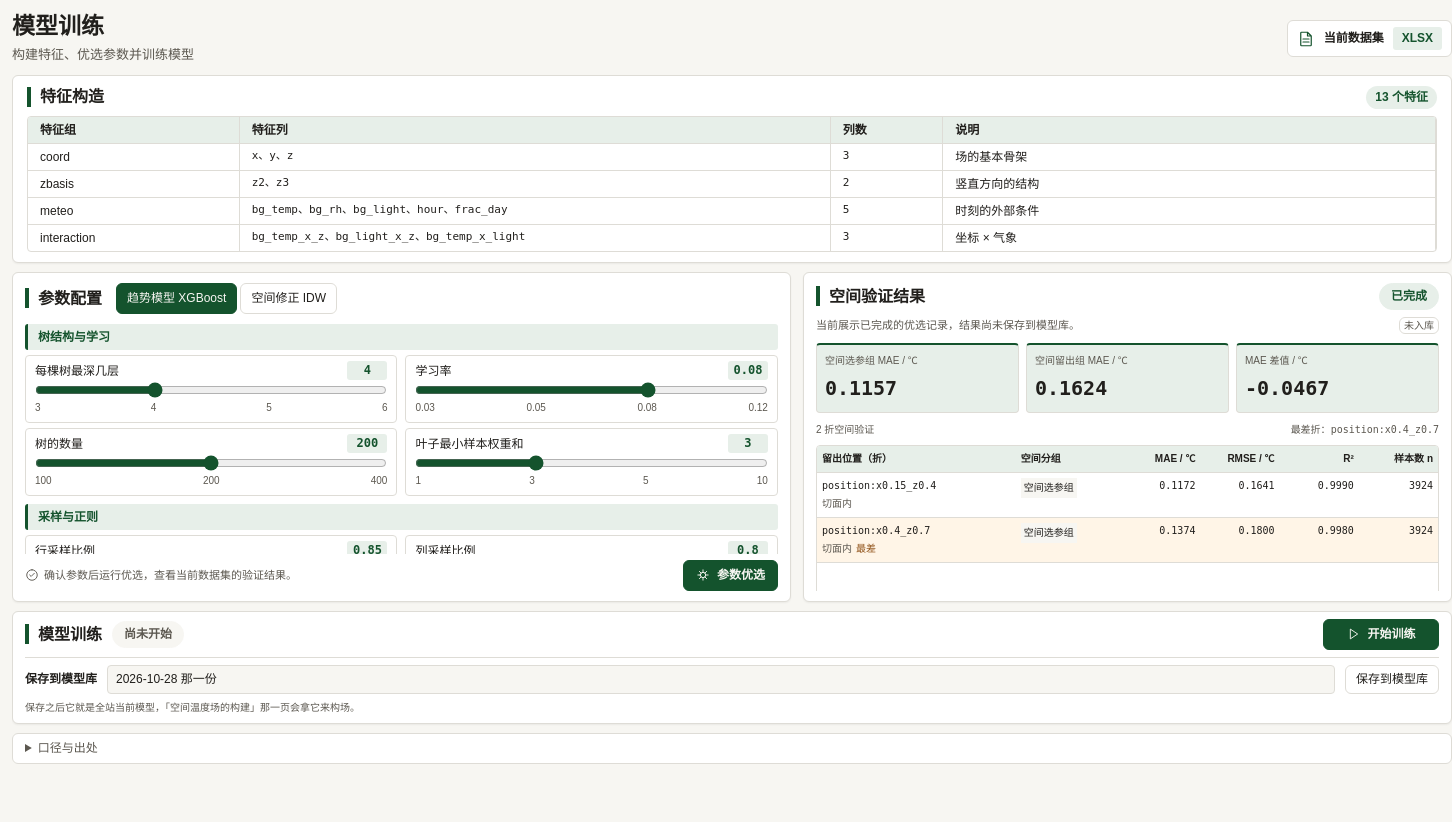
Test case: 保存到模型库 › 保存成功之后图章翻成「包」，那一行也收了
Replace the text in the field named "model-name" with "棚里那套" at [721, 680], box [107,665,1335,694]
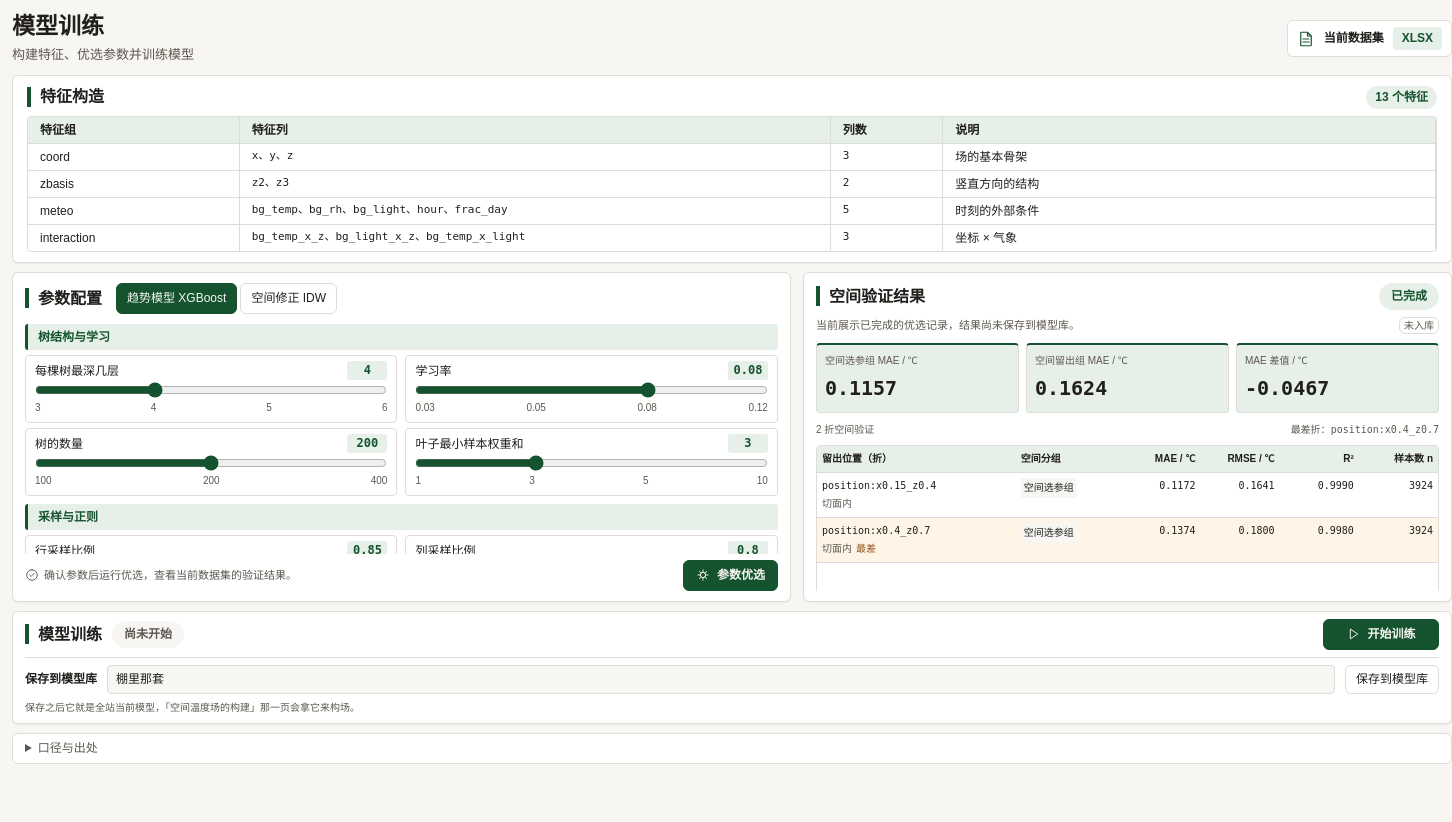
Click the button "保存到模型库" at [1392, 680], box [1345,665,1439,694]
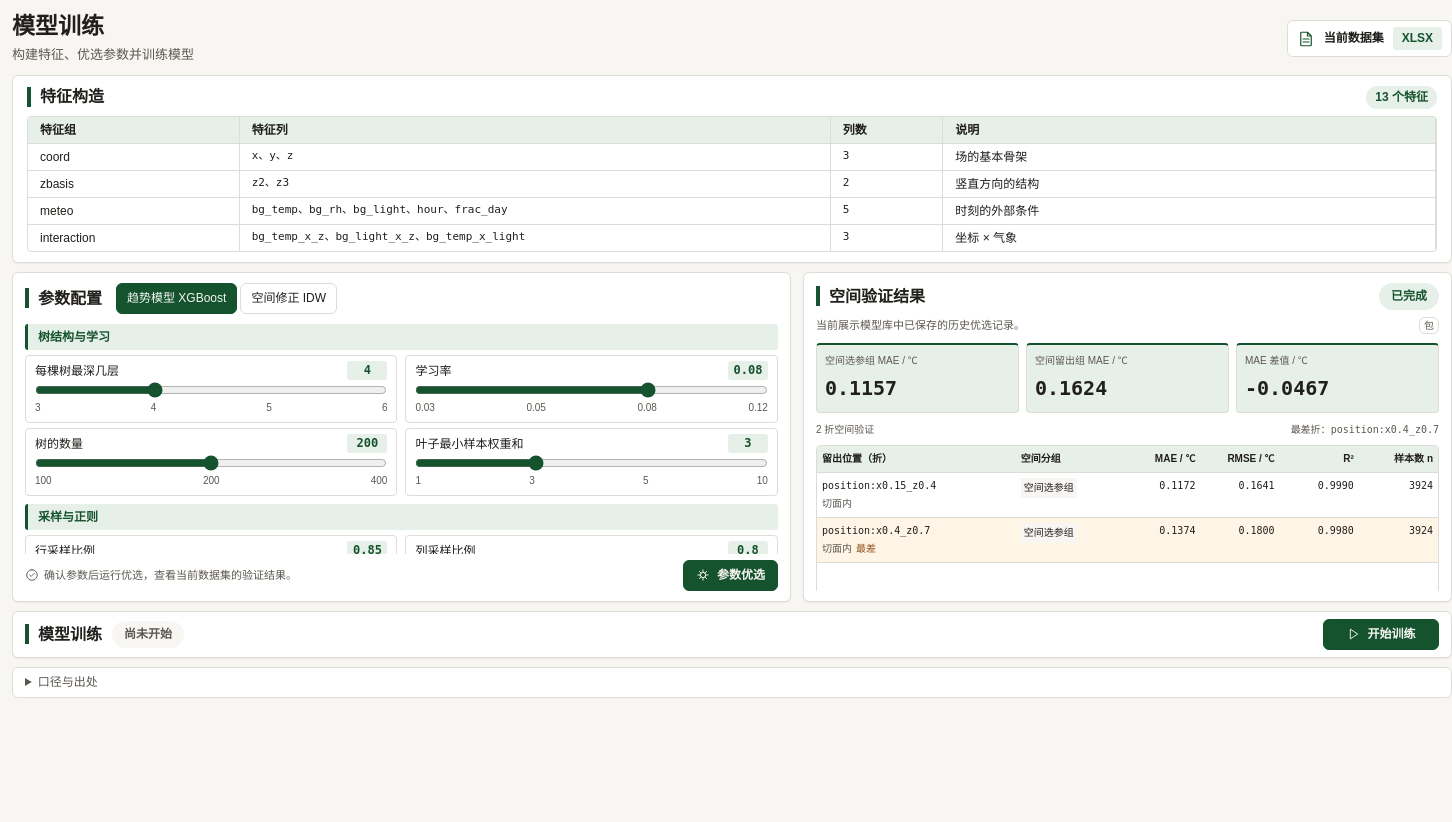
expect the text "包" is shown: met, box [1419,317,1439,334]
expect the text "保存到模型库" is gone: met
